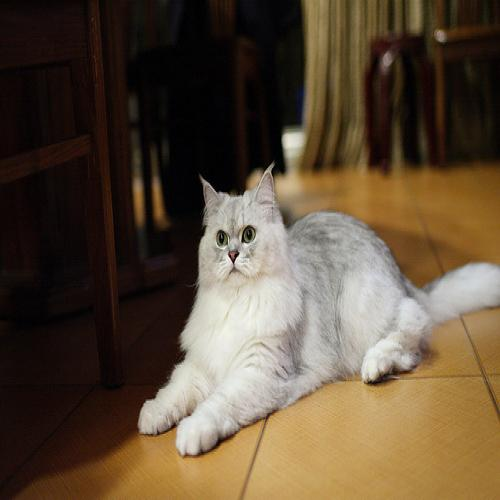persian: (194, 156, 289, 293)
